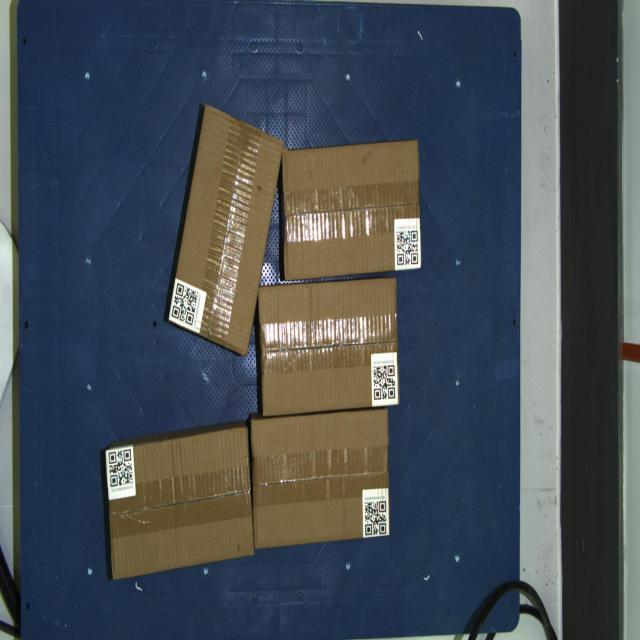box: (168, 103, 284, 357), (106, 426, 254, 580), (258, 277, 400, 415), (283, 140, 421, 281), (251, 408, 389, 549)
